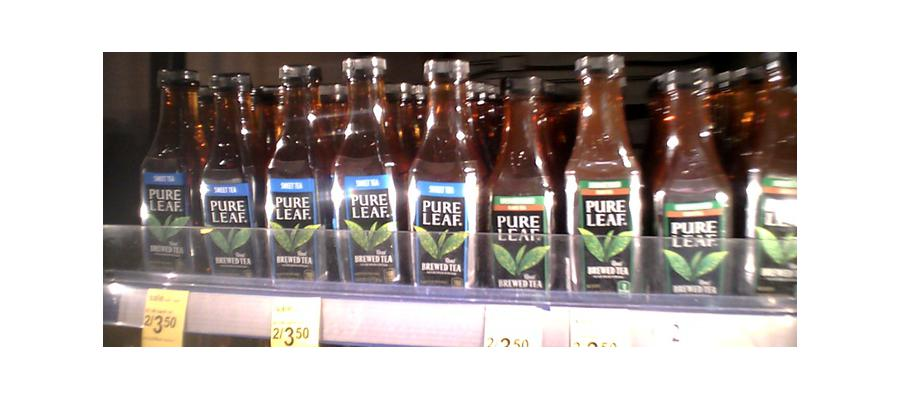bottle: (564, 54, 646, 295), (651, 71, 735, 302), (402, 57, 481, 296), (329, 52, 401, 287), (485, 86, 556, 293), (261, 59, 324, 286), (741, 69, 801, 291), (199, 72, 262, 276), (140, 64, 196, 276)
